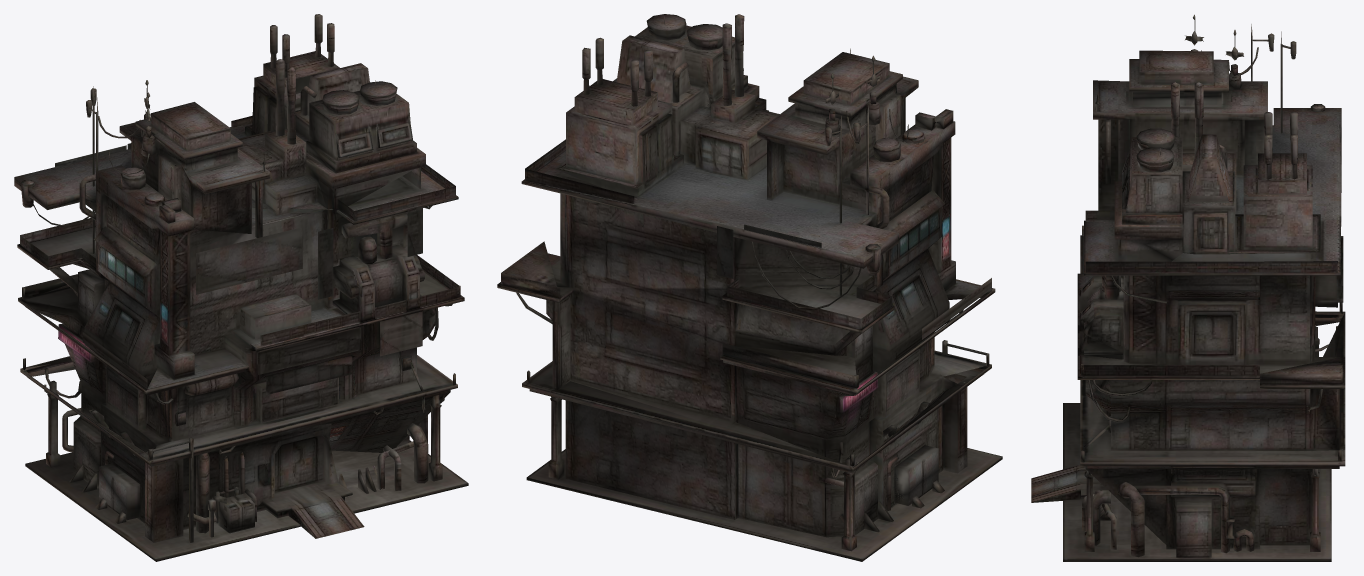
3 renders of one model, left to right at view 1: azimuth 30°, elevation 25°; view 2: azimuth 150°, elevation 25°; view 3: azimuth 270°, elevation 25°, orthographic. The views are drawn at different scales.
Parts seen in each view (by area): view 1: tripo_node_ba357236-f9e8-4e87-9e64-d7ed960e4c0b; view 2: tripo_node_ba357236-f9e8-4e87-9e64-d7ed960e4c0b; view 3: tripo_node_ba357236-f9e8-4e87-9e64-d7ed960e4c0b.
Part boxes in pixels (x1=…): tripo_node_ba357236-f9e8-4e87-9e64-d7ed960e4c0b: x1=14, y1=14, x2=468, y2=561; tripo_node_ba357236-f9e8-4e87-9e64-d7ed960e4c0b: x1=497, y1=14, x2=1002, y2=561; tripo_node_ba357236-f9e8-4e87-9e64-d7ed960e4c0b: x1=1031, y1=14, x2=1345, y2=561.
Size of the model in its own units: 0.873 by 0.998 by 0.6855.
1 material, 1 textured.
